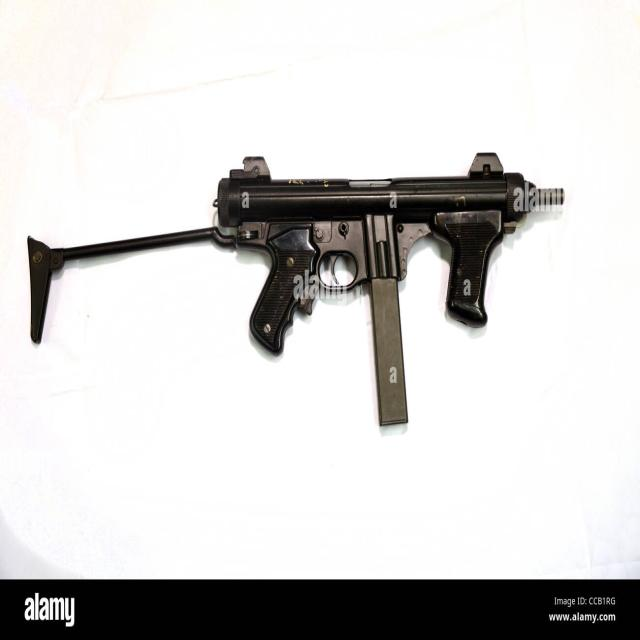Weapon: (26, 150, 564, 425)
